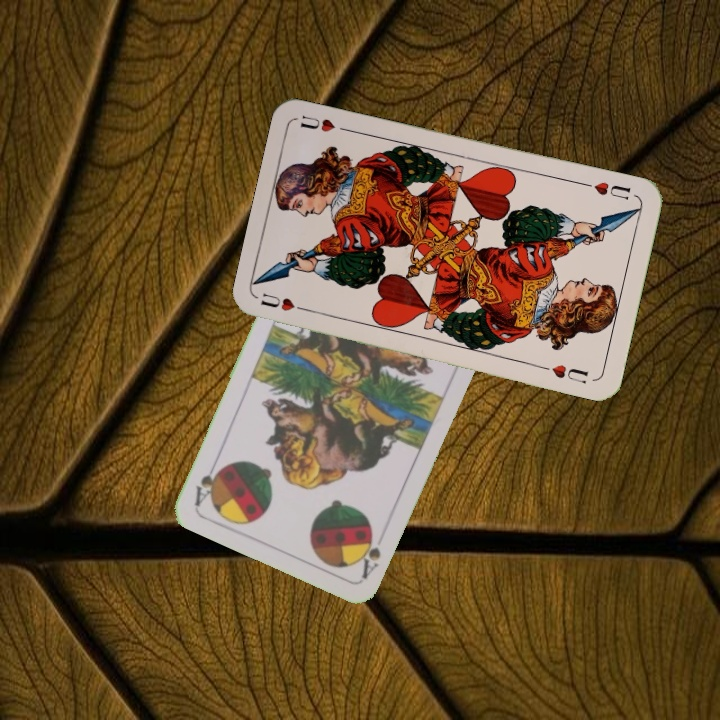HU: (257, 289, 314, 315), (579, 177, 634, 203)
SA: (350, 522, 384, 581)
